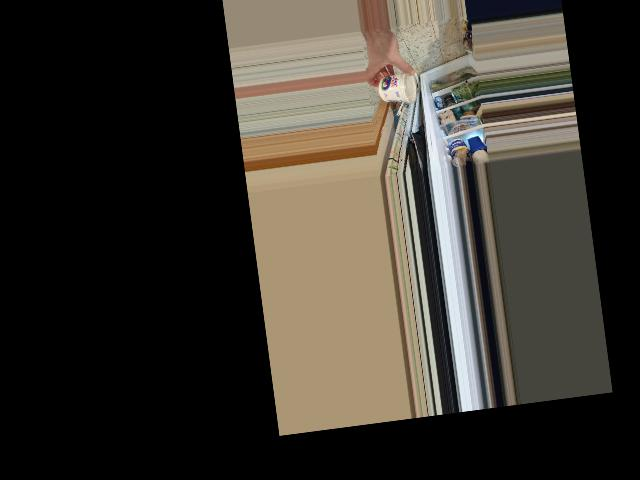cotage: (375, 70, 418, 106)
